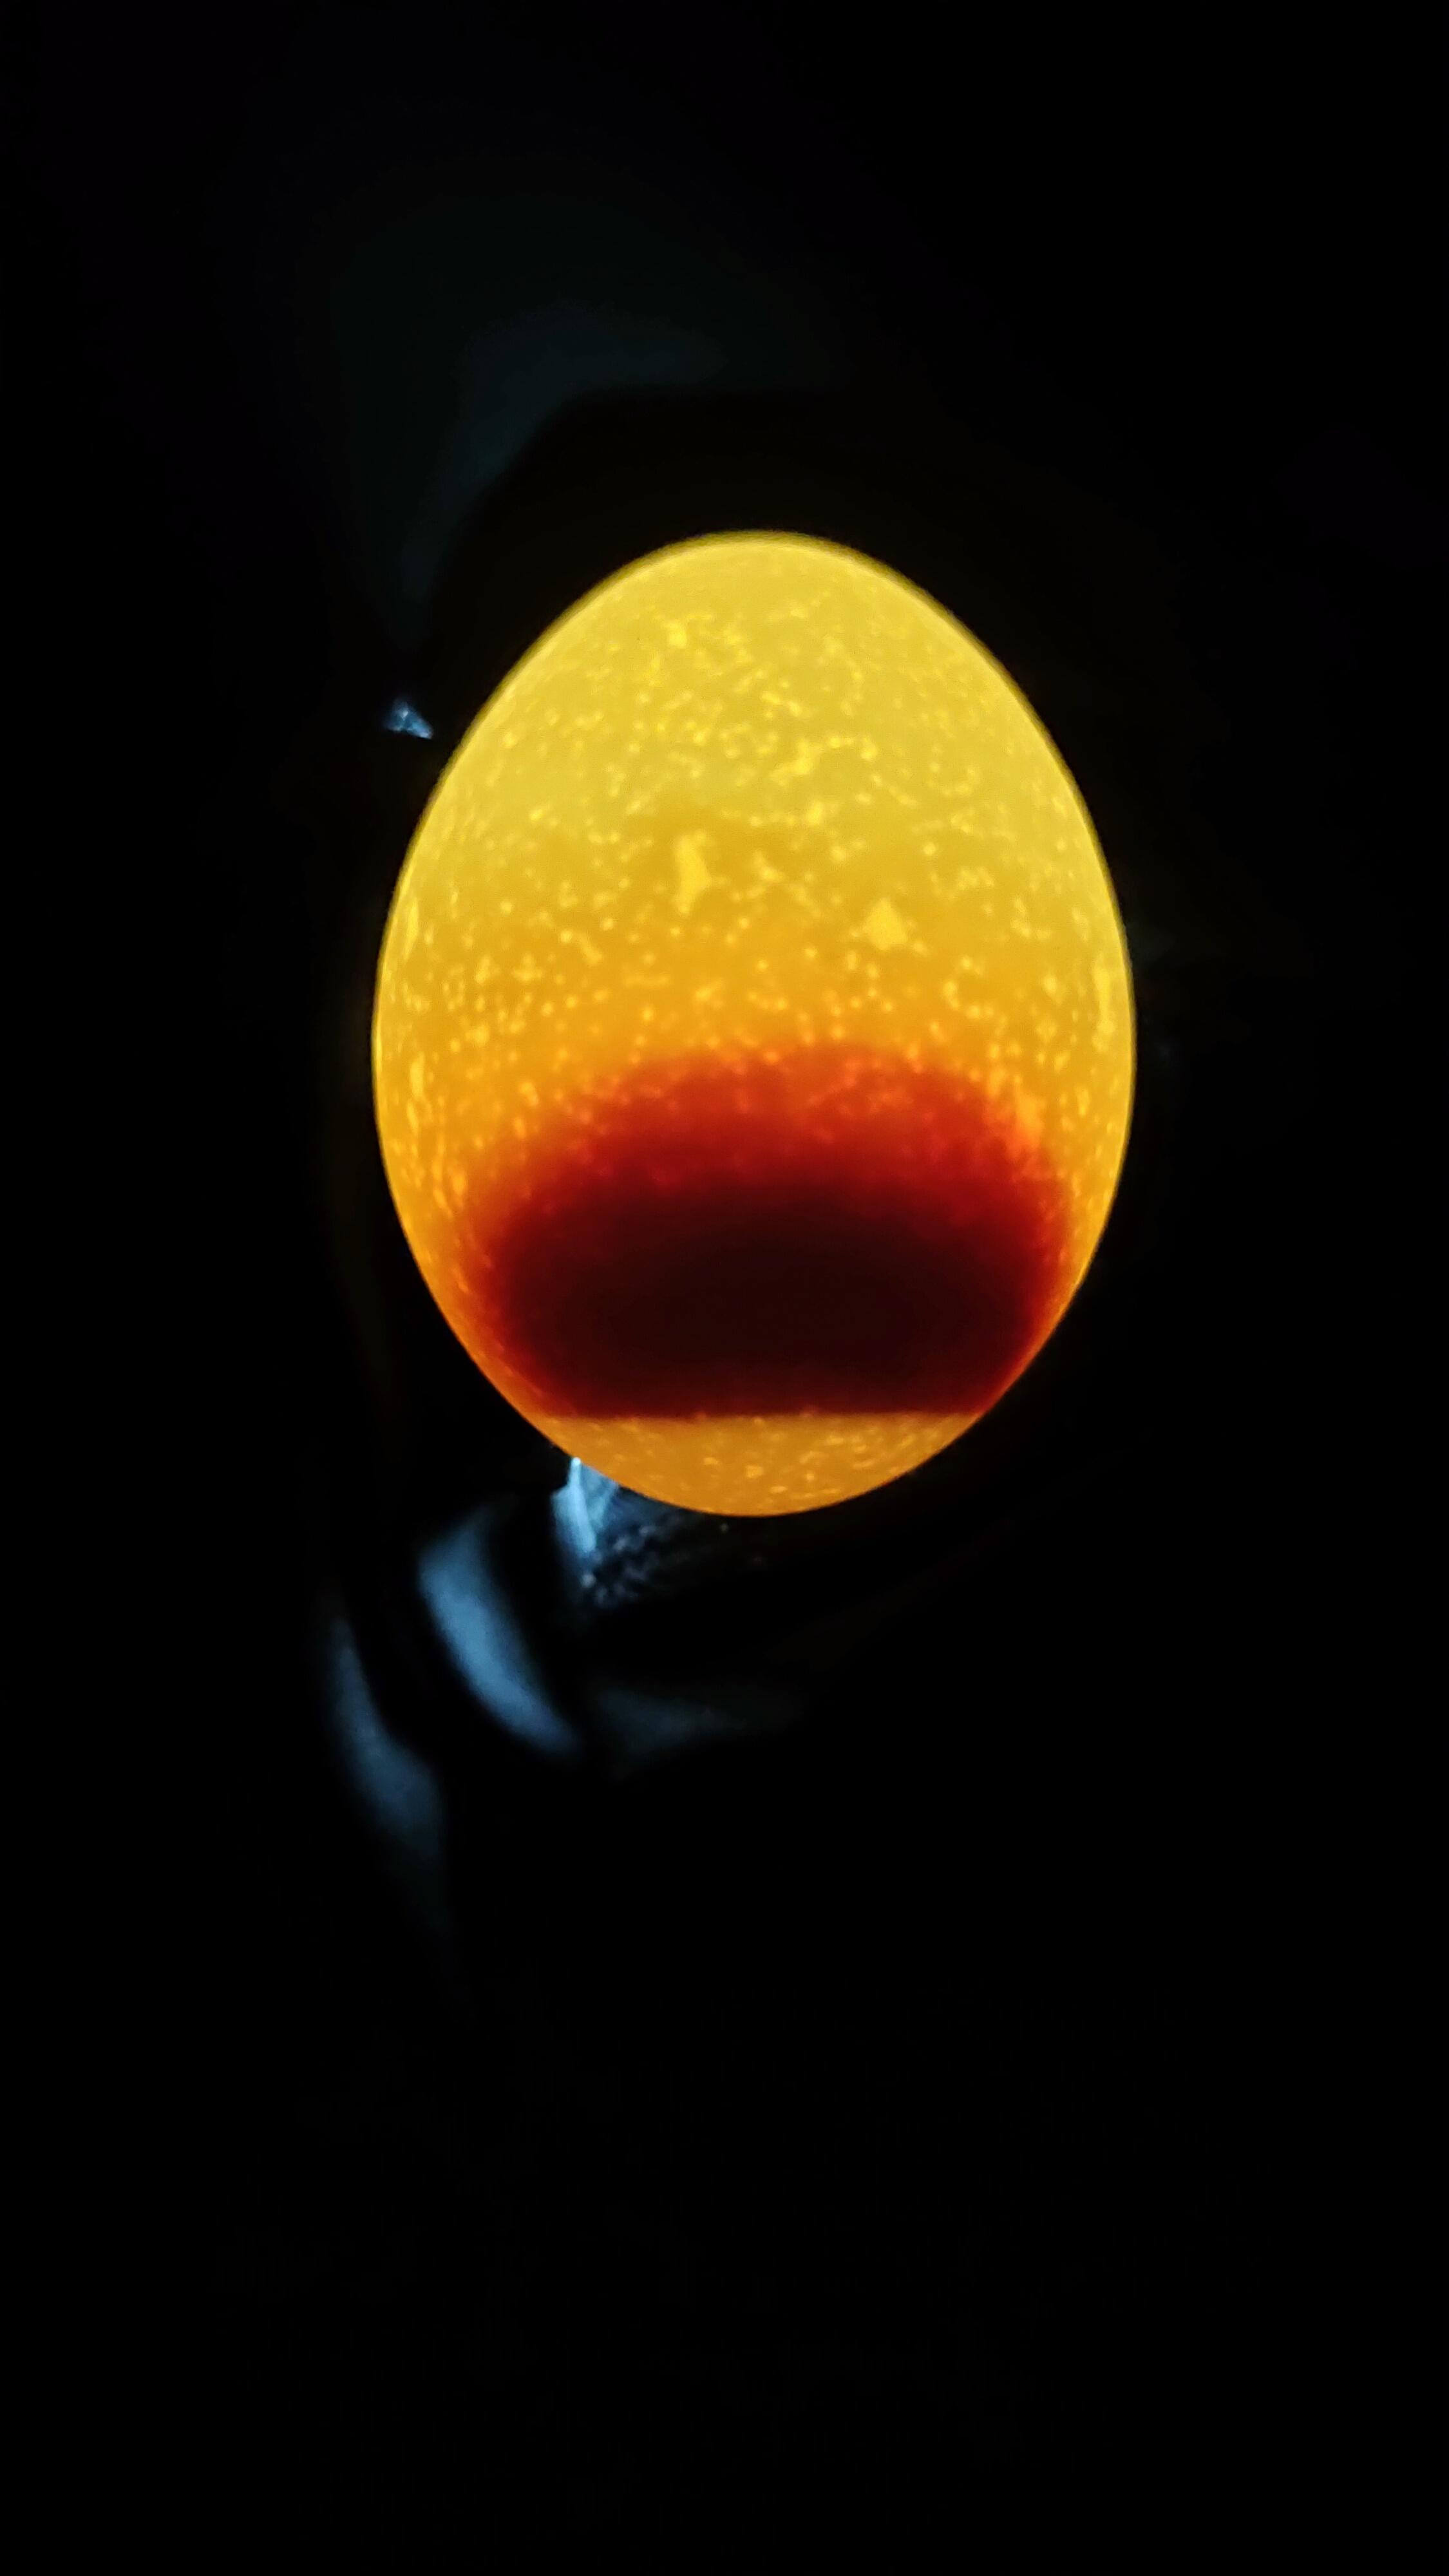AA - Premium: (322, 515, 1198, 1571)
